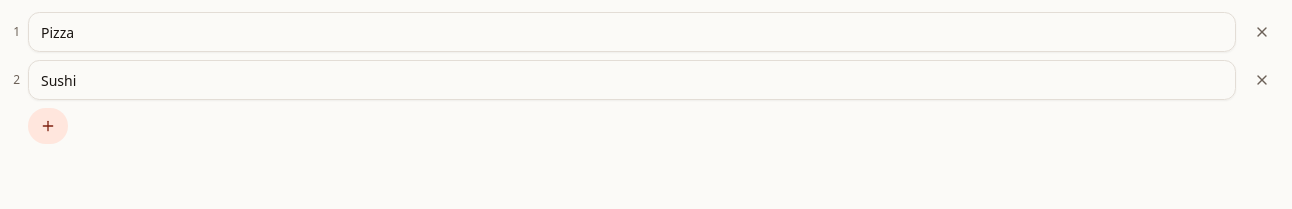
it: TextOptionsEditor › adds a row after the focused one, not at the end
This screenshot has width=1292, height=209.
Click the 1st field at (632, 32), box x1=28 y1=12 x2=1236 y2=52
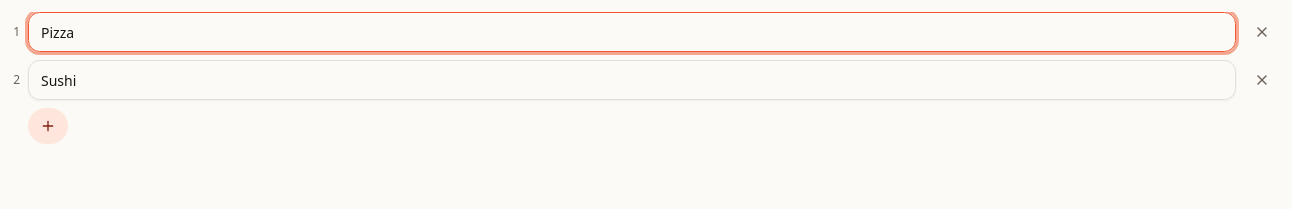
Press Enter
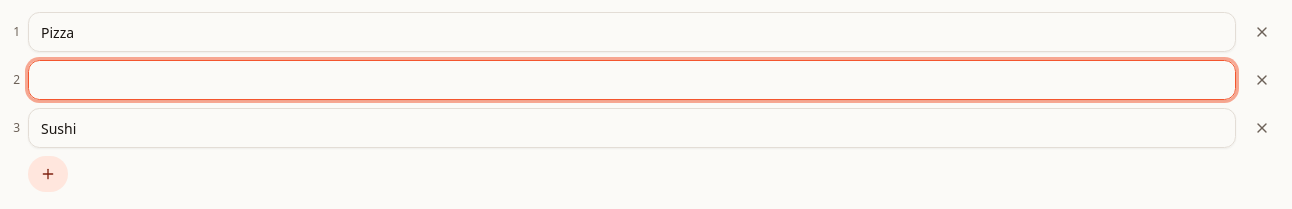
Check: the number of fields is 3, box x1=28 y1=12 x2=1236 y2=52; x1=28 y1=60 x2=1236 y2=100; x1=28 y1=108 x2=1236 y2=148
Check: the 2nd field is empty, box x1=28 y1=60 x2=1236 y2=100
Check: the 3rd field holds "Sushi", box x1=28 y1=108 x2=1236 y2=148
